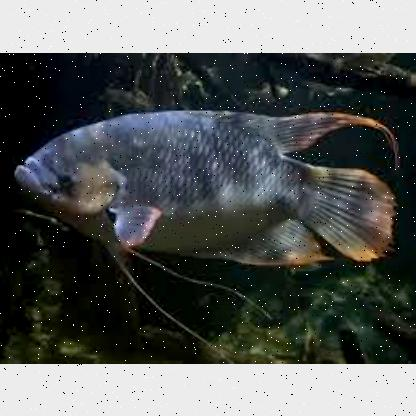gurame: (14, 110, 393, 268)
